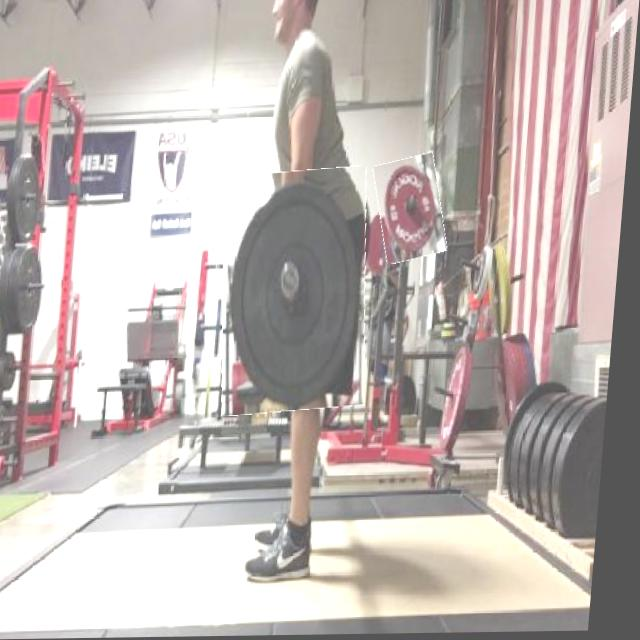barbell: (218, 170, 383, 416), (376, 157, 453, 264)
